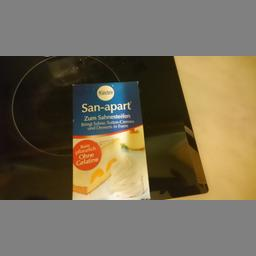cake: (70, 79, 150, 199)
